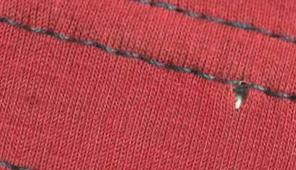hole: (229, 86, 251, 113)
